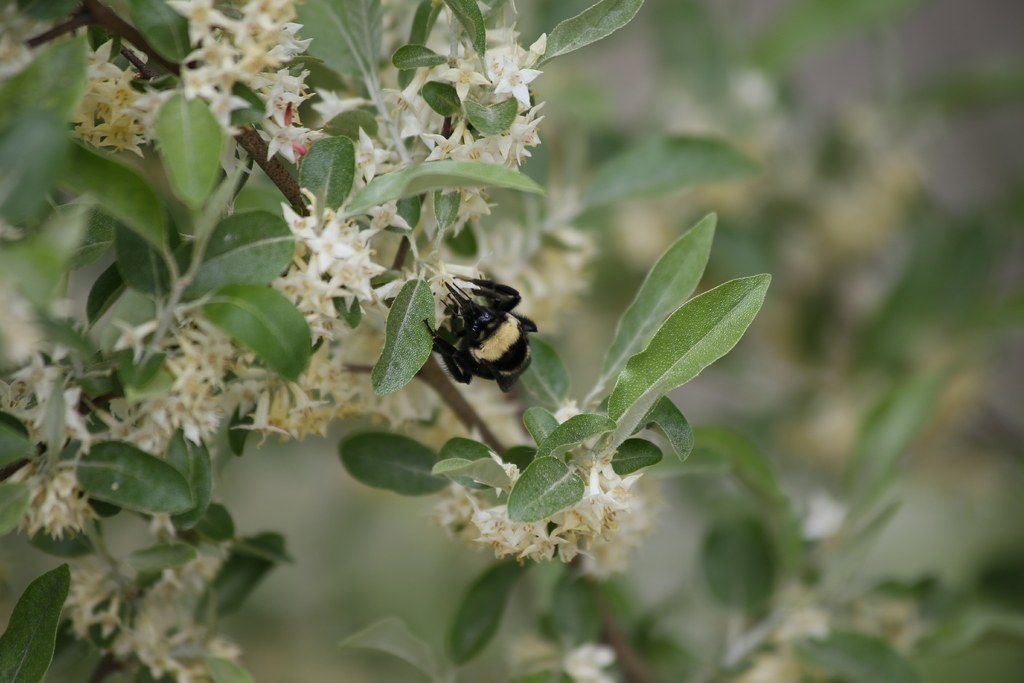bee: (410, 272, 541, 406)
insect: (0, 0, 1023, 682)
